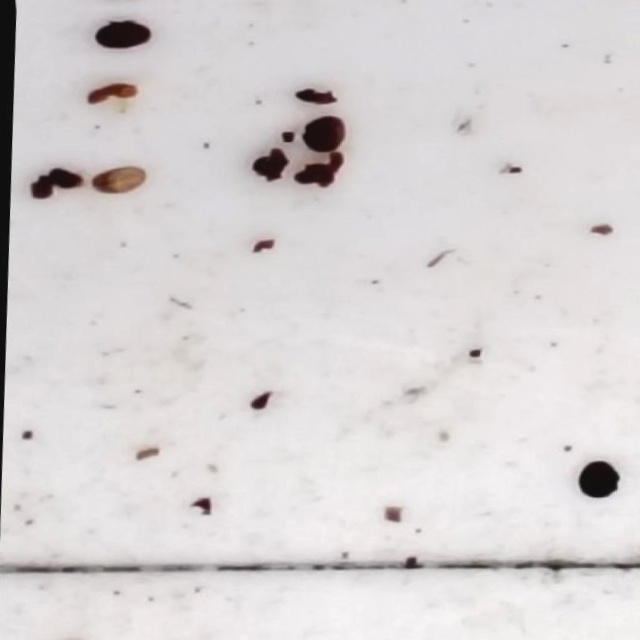varroa: (83, 16, 144, 55), (571, 456, 620, 499), (292, 115, 342, 154)
